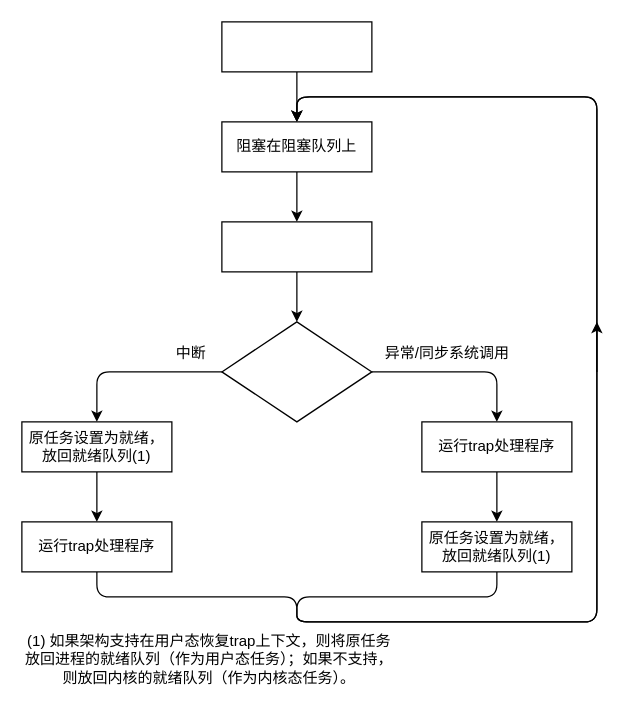
The diagram is 629 pixels wide and 708 high, and some of its shapes have lost their labels. Here are the shapes that lost their labels. From the top down, the centre of each, then its label:
(x=296, y=46): 开始
(x=296, y=246): 被唤醒时，由跳板传入原任务和trap参数
(x=296, y=371): trap类型
